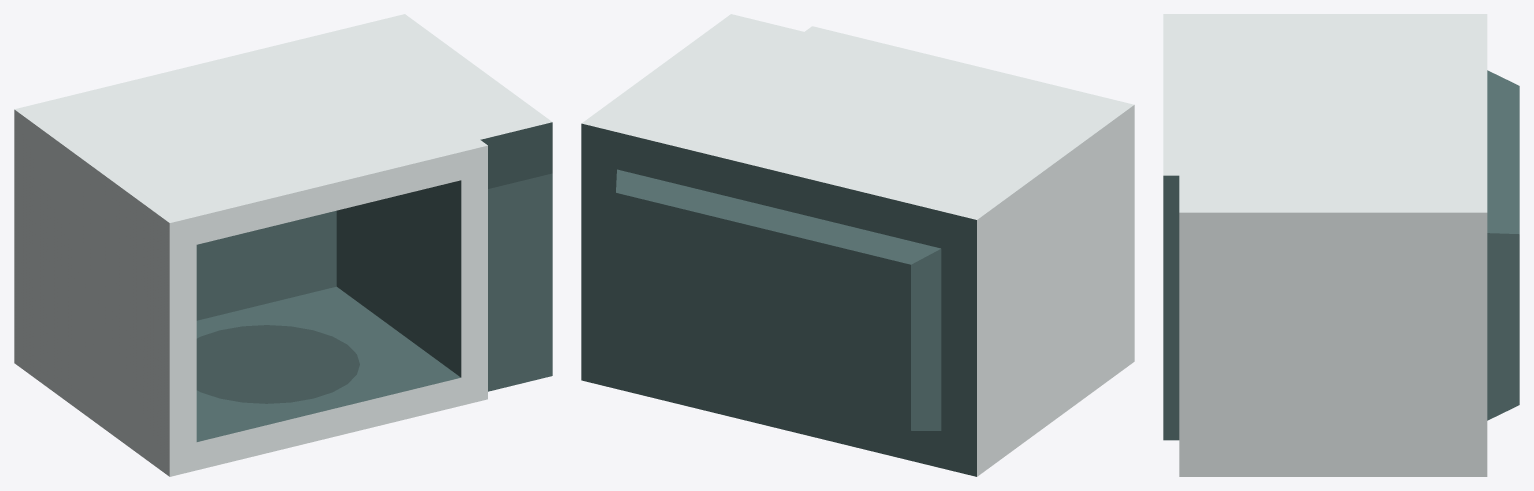
Rendered from kitchenMicrowave.glb.
The picture shows the model from 3 angles, left to right: view 1: azimuth 30°, elevation 25°; view 2: azimuth 150°, elevation 25°; view 3: azimuth 270°, elevation 25°; orthographic projection. The views are drawn at different scales.
Visible parts, largest first — view 1: kitchenMicrowave; view 2: kitchenMicrowave; view 3: kitchenMicrowave.
Boxes of the visible parts, x1,y1,x2,y2 form: kitchenMicrowave: (14, 14, 552, 476); kitchenMicrowave: (581, 14, 1134, 476); kitchenMicrowave: (1163, 14, 1519, 476).
Size of the model in its own units: 0.5208 by 0.3232 by 0.3951.
